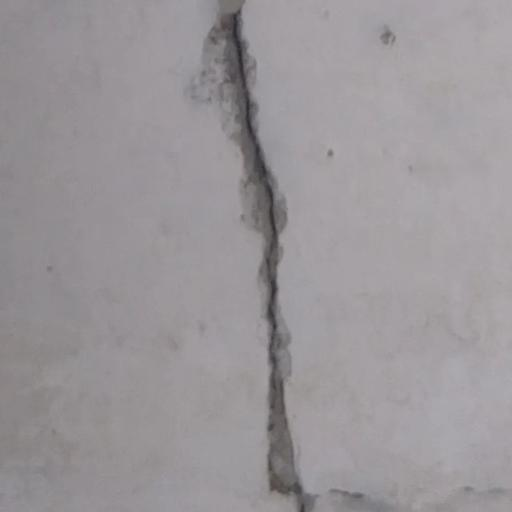major_crack: (186, 0, 332, 511)
